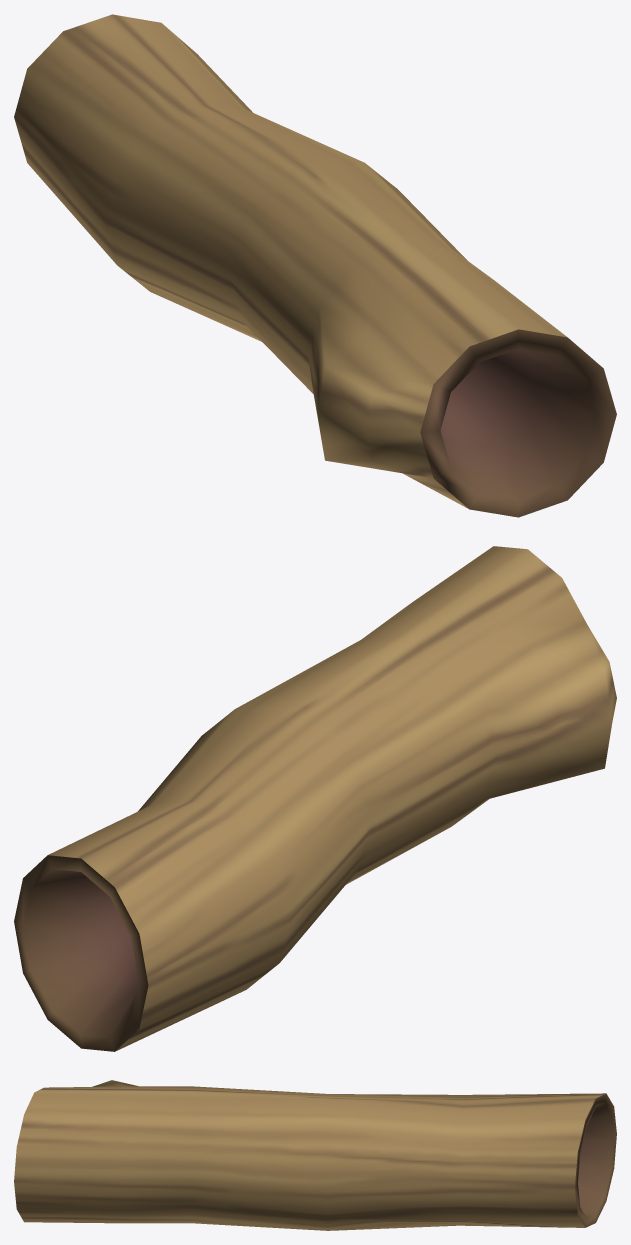
Rendered from touboku1.fbx.
3 renders of one model, top to bottom at view 1: azimuth 30°, elevation 25°; view 2: azimuth 150°, elevation 25°; view 3: azimuth 270°, elevation 25°, orthographic. The views are drawn at different scales.
Parts seen in each view (by area): view 1: pCylinder7; view 2: pCylinder7; view 3: pCylinder7.
Boxes of the visible parts, bbox=[...] form: pCylinder7: bbox=[14, 14, 616, 517]; pCylinder7: bbox=[14, 546, 616, 1051]; pCylinder7: bbox=[14, 1080, 616, 1230].
Size of the model in its own units: 0.3027 by 0.2276 by 0.9347.
